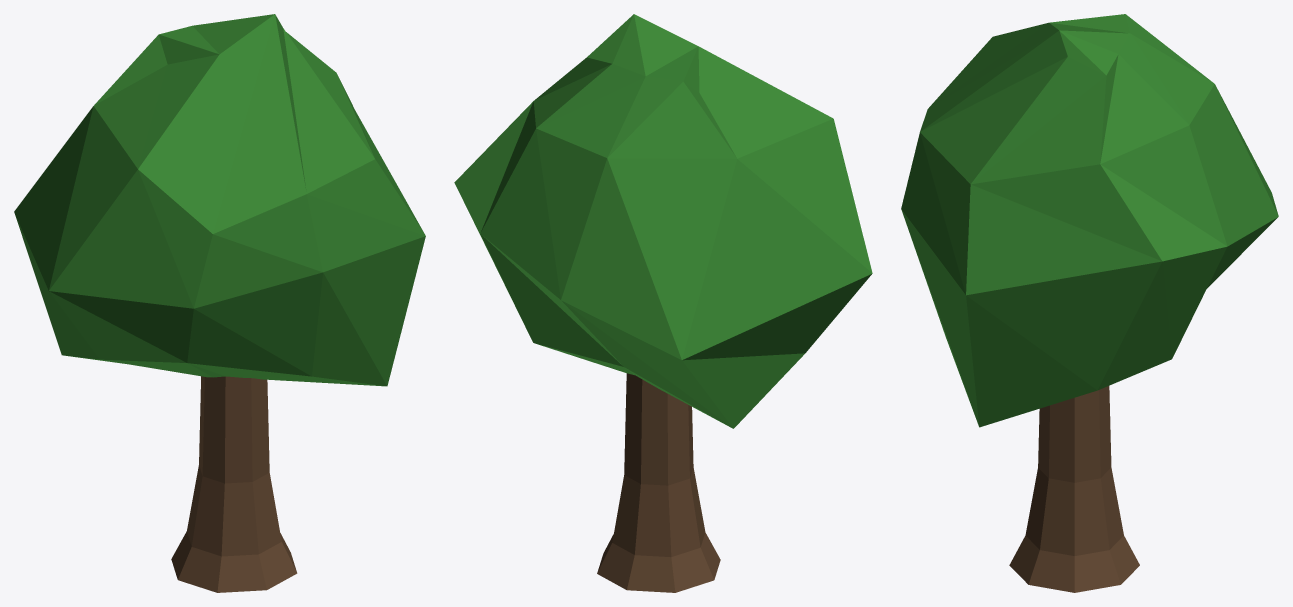
The model's file is Tree1.FBX.
3 views of the same model, side by side, from view 1: azimuth 30°, elevation 25°; view 2: azimuth 150°, elevation 25°; view 3: azimuth 270°, elevation 25° (orthographic). The views are drawn at different scales.
Visible parts, largest first — view 1: Tree1; view 2: Tree1; view 3: Tree1.
Boxes of the visible parts, <box> form: Tree1: <box>14,14,425,592</box>; Tree1: <box>454,14,872,592</box>; Tree1: <box>901,14,1278,592</box>.
Bounding box in the file's own units: 2.27 × 3.26 × 2.02.
